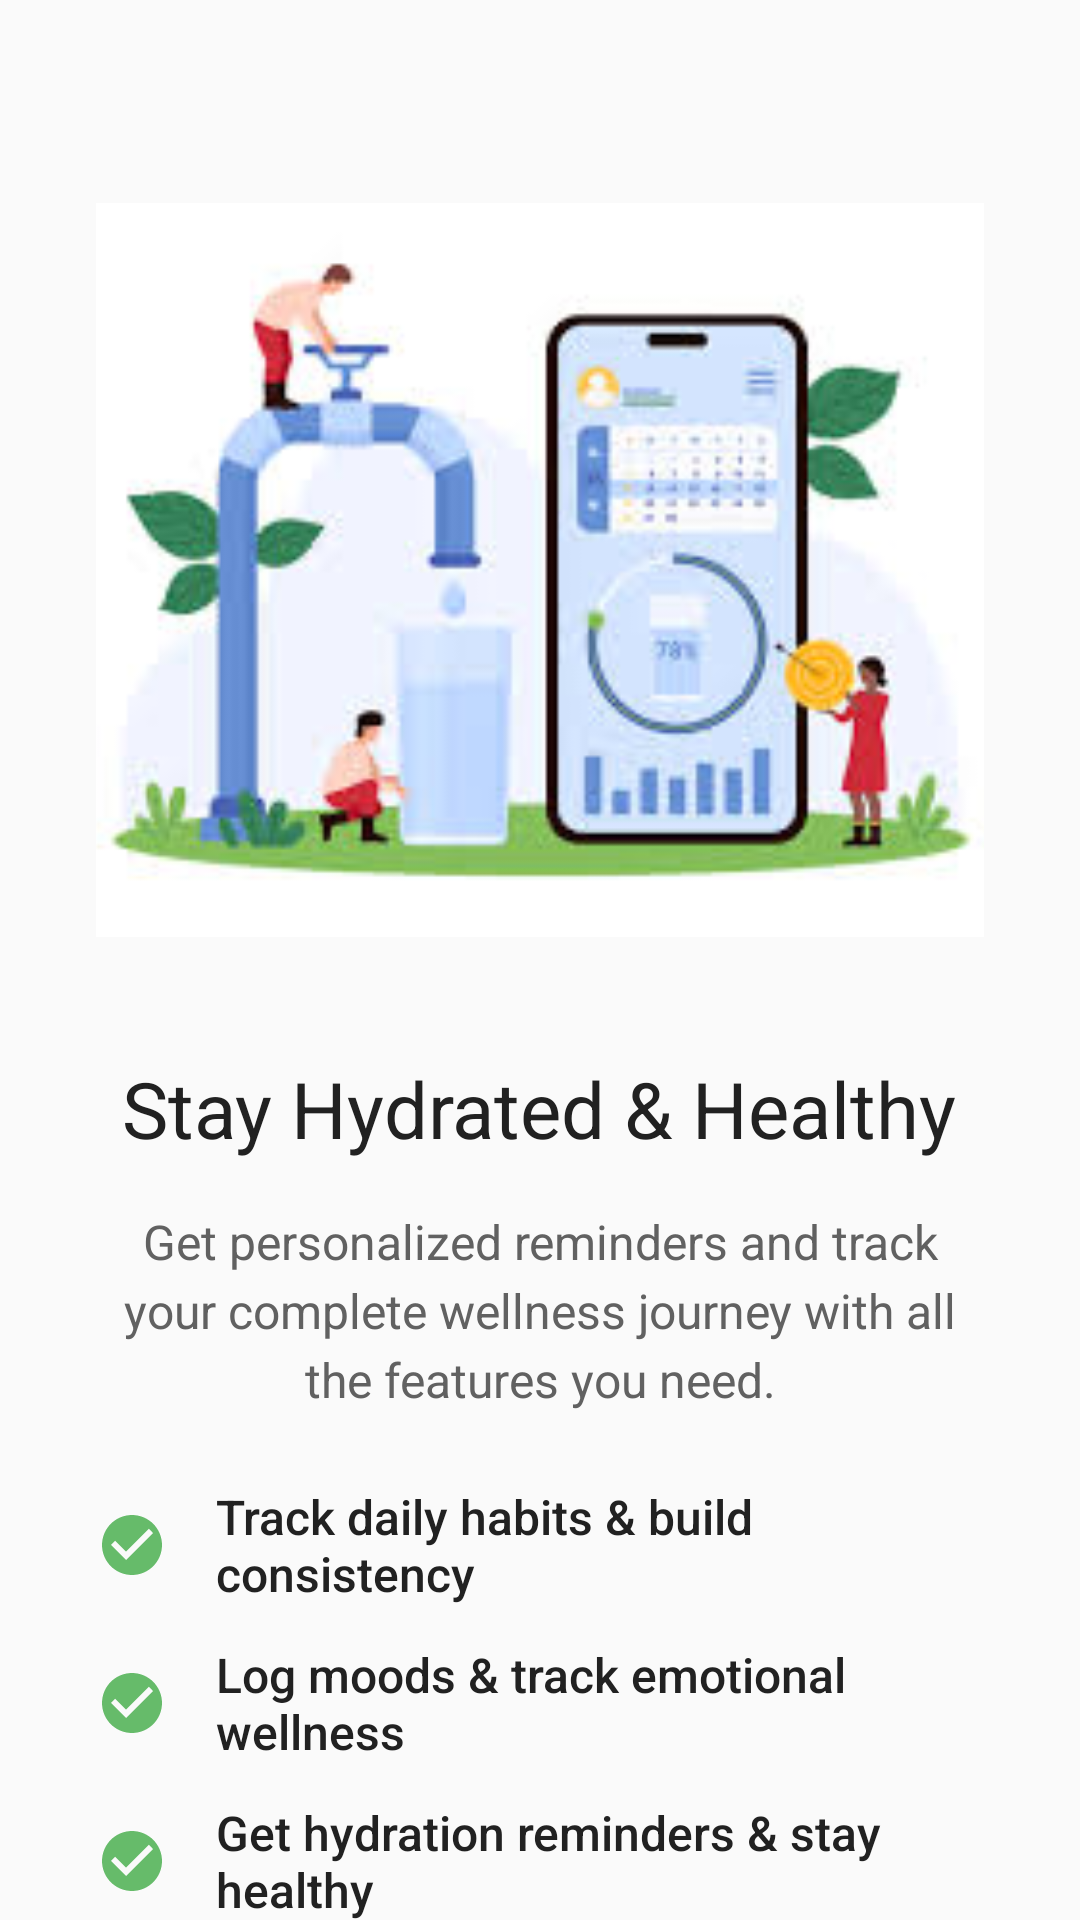

Where to tap for icons on this 1080 × 1920 app screen, as point (x, y):
check circle: point (132, 1545), point (132, 1703), point (132, 1861)
